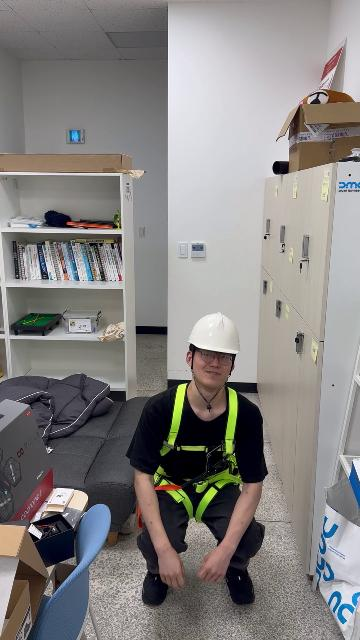helmet_worn: (185, 313, 243, 355)
shoe_worn: (225, 567, 254, 605), (141, 570, 169, 605)
vest_worn: (148, 380, 245, 522)
